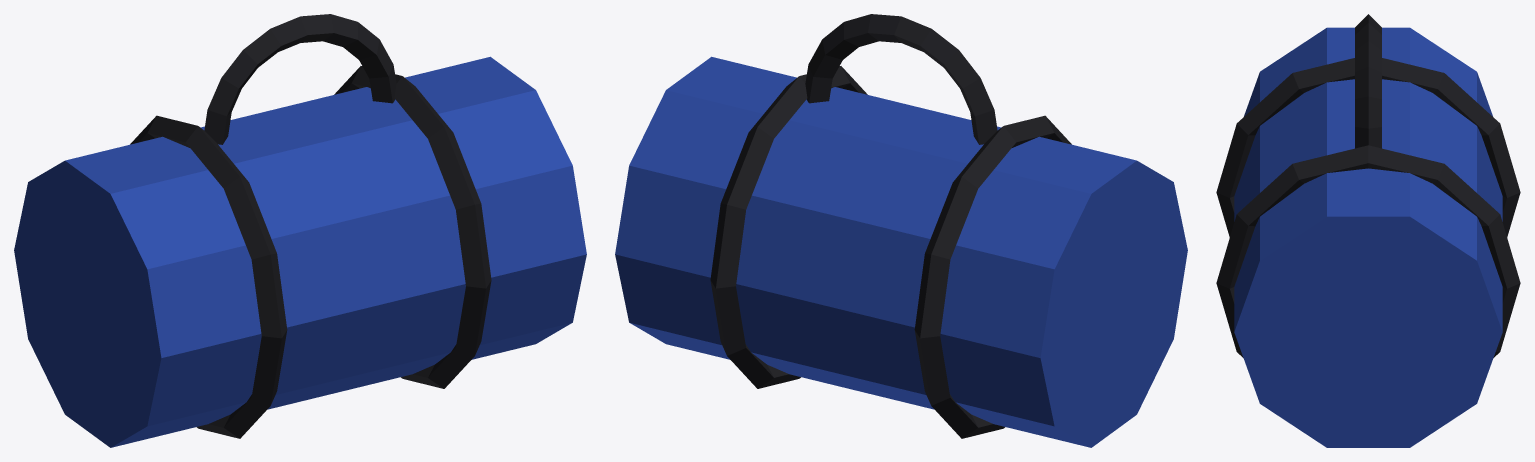
File: gym_bag.glb
The picture shows the model from 3 angles, left to right: view 1: azimuth 30°, elevation 25°; view 2: azimuth 150°, elevation 25°; view 3: azimuth 270°, elevation 25°; orthographic projection. The views are drawn at different scales.
Visible parts, largest first — view 1: bag_gym_bag_blue, straps_gym_black, handle_gym_black; view 2: bag_gym_bag_blue, straps_gym_black, handle_gym_black; view 3: bag_gym_bag_blue, straps_gym_black, handle_gym_black.
Boxes of the visible parts, x1,y1,x2,y2 form: bag_gym_bag_blue: (14,56,586,447); straps_gym_black: (130,66,491,438); handle_gym_black: (204,14,396,144); bag_gym_bag_blue: (615,56,1187,447); straps_gym_black: (710,66,1071,438); handle_gym_black: (805,14,997,144); bag_gym_bag_blue: (1234,27,1502,447); straps_gym_black: (1216,58,1520,357); handle_gym_black: (1355,14,1381,148).
Bounding box in the file's own units: 0.5 × 0.435 × 0.34.
